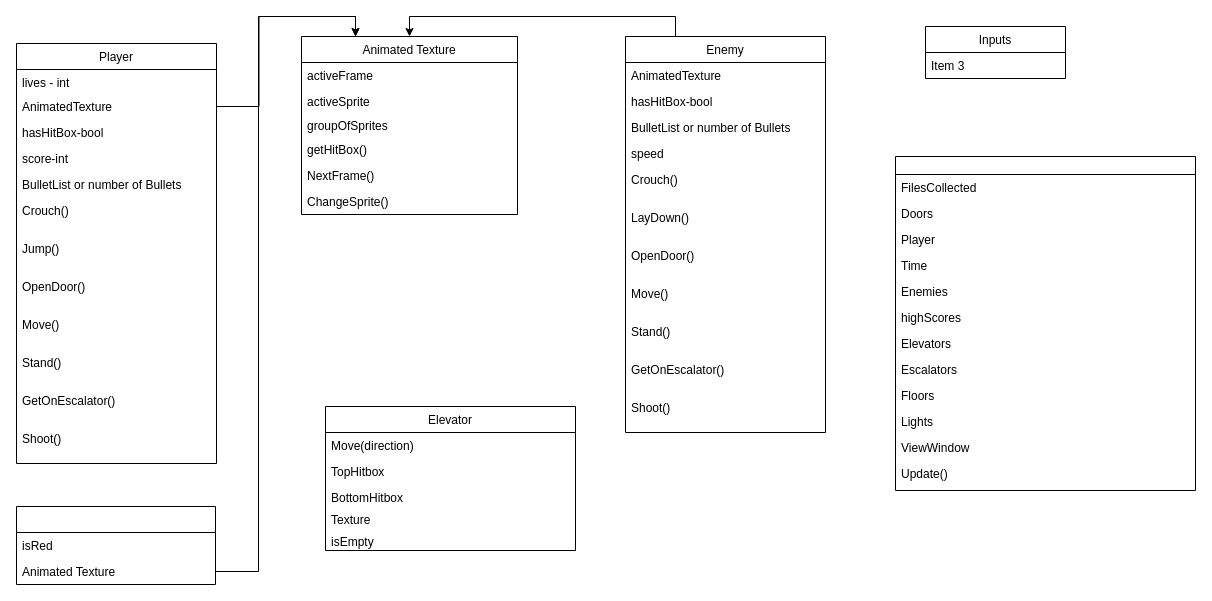
Some shapes in this 1212 by 601 pixel diagram are drawn without their labels. Here are the shapes that lost their labels. From the top down, the box of each, then its label:
(894, 156, 1196, 490): Game
(16, 506, 216, 584): Door
